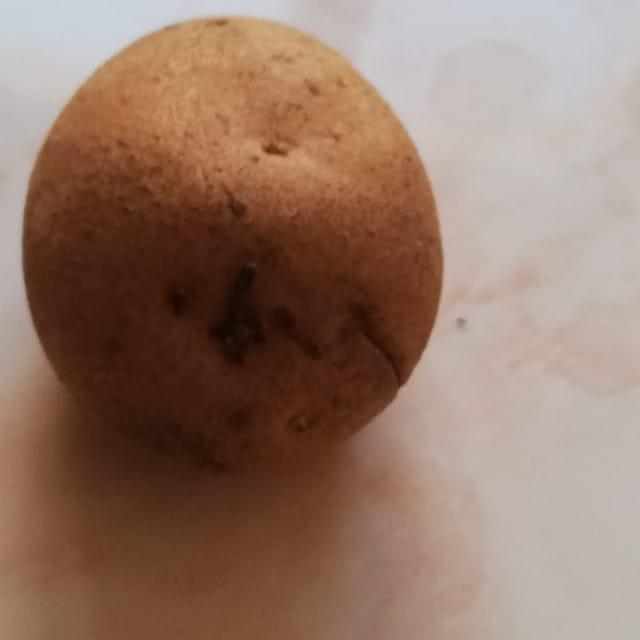potato: (8, 0, 461, 496)
